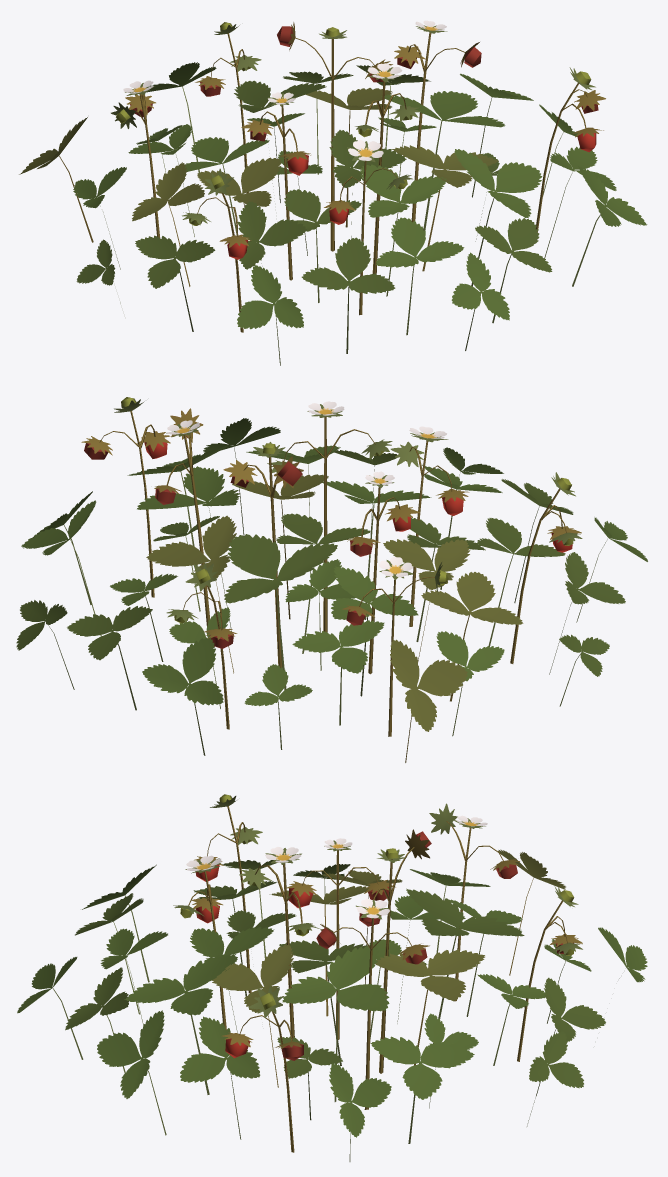
The model's file is Strawberry_Cluster_1.fbx.
3 views of the same model, one above another, from view 1: azimuth 30°, elevation 25°; view 2: azimuth 150°, elevation 25°; view 3: azimuth 270°, elevation 25° (orthographic). The views are drawn at different scales.
Parts seen in each view (by area): view 1: Strawberry_Cluster_1; view 2: Strawberry_Cluster_1; view 3: Strawberry_Cluster_1.
Boxes of the visible parts, <box> form: Strawberry_Cluster_1: <box>19,20,647,365</box>; Strawberry_Cluster_1: <box>16,397,647,762</box>; Strawberry_Cluster_1: <box>17,794,647,1161</box>.
Size of the model in its own units: 166 by 66.66 by 167.
1 material, 1 textured.
